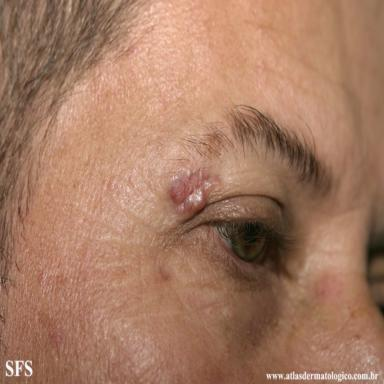basal-cell-carcinoma: (169, 168, 220, 219)
